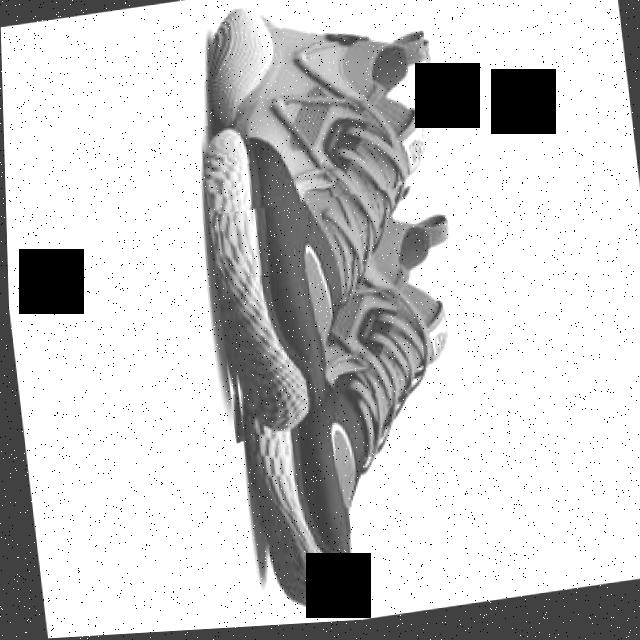shoe: (185, 0, 466, 447), (215, 185, 486, 623)
